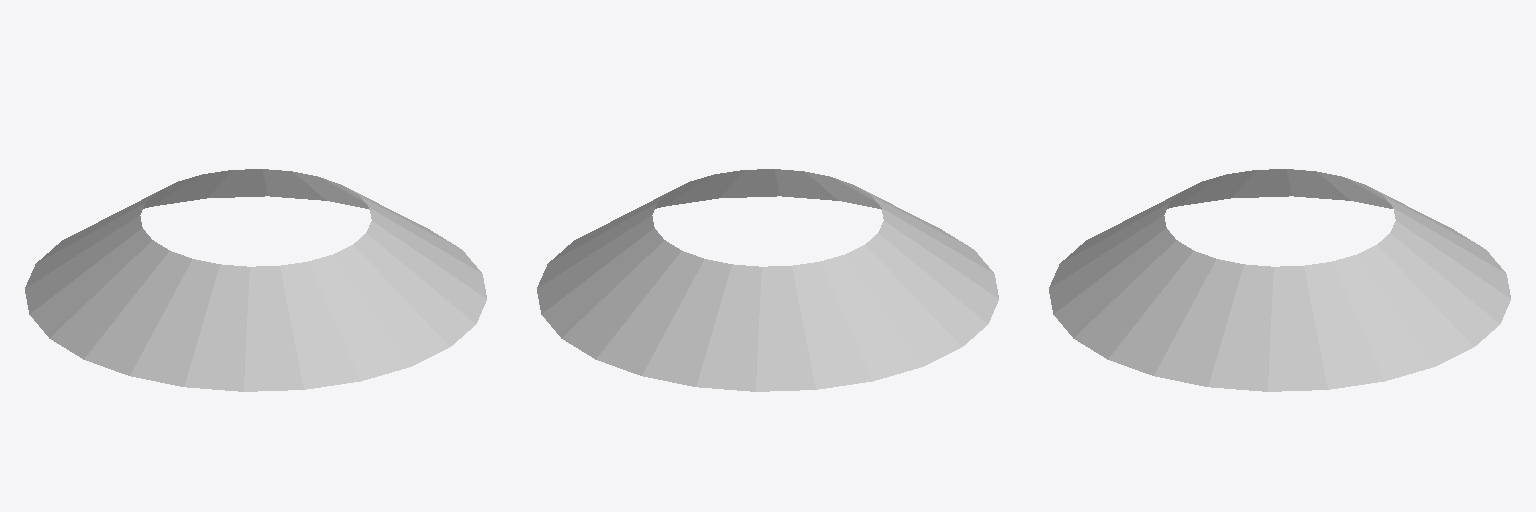
File: original-14.obj
The picture shows the model from 3 angles: view 1: azimuth 30°, elevation 25°; view 2: azimuth 150°, elevation 25°; view 3: azimuth 270°, elevation 25°; orthographic projection.
Parts seen in each view (by area): view 1: #ID94; view 2: #ID94; view 3: #ID94.
Part boxes in pixels (x1,y1,x2,y2): #ID94: (25, 169, 486, 391); #ID94: (537, 169, 998, 391); #ID94: (1049, 169, 1510, 391).
Bounding box in the file's own units: 0.067 × 0.0122 × 0.067.